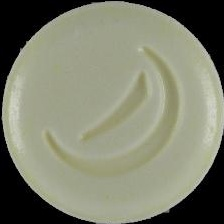68788-0074: (0, 0, 224, 224)
